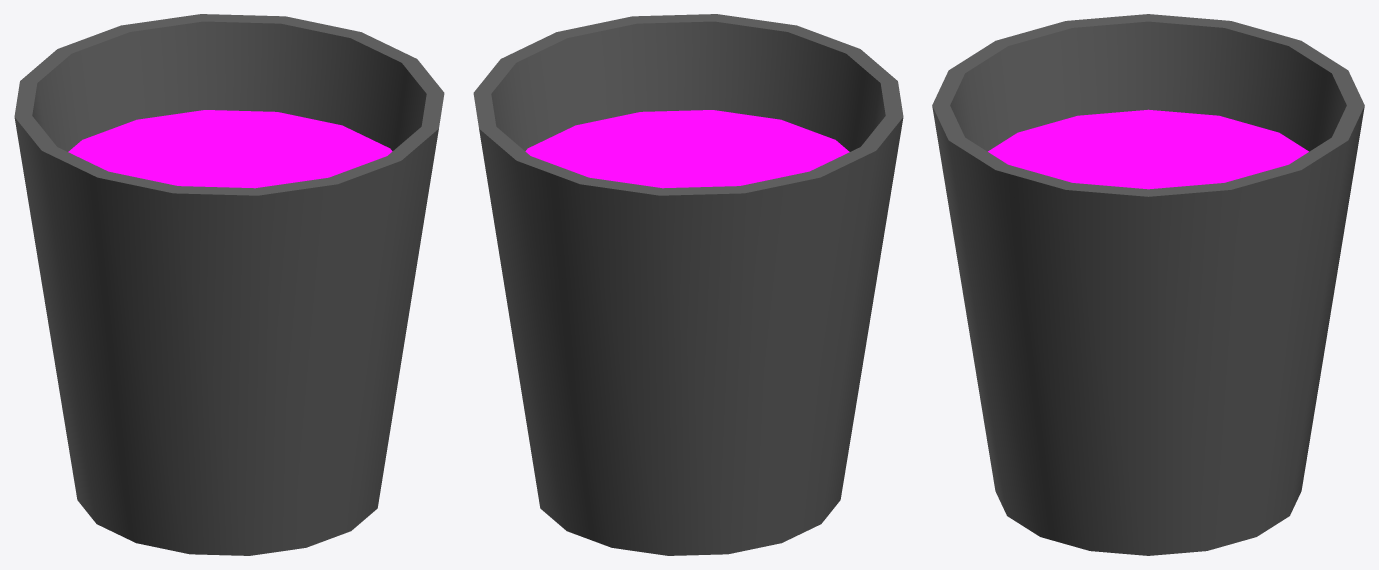
File: CleaningAgent.fbx
The picture shows the model from 3 angles, left to right: view 1: azimuth 30°, elevation 25°; view 2: azimuth 150°, elevation 25°; view 3: azimuth 270°, elevation 25°; orthographic projection.
Visible parts, largest first — view 1: CleaningAgent; view 2: CleaningAgent; view 3: CleaningAgent.
Boxes of the visible parts, bbox=[...] form: CleaningAgent: bbox=[14, 14, 444, 555]; CleaningAgent: bbox=[473, 14, 903, 555]; CleaningAgent: bbox=[932, 14, 1364, 555].
Size of the model in its own units: 80 by 78.72 by 80.
